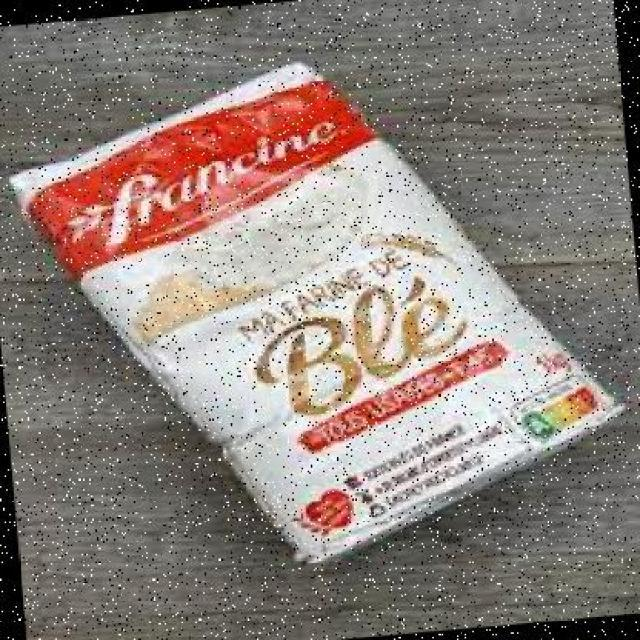gunny_bag: (0, 59, 634, 576)
